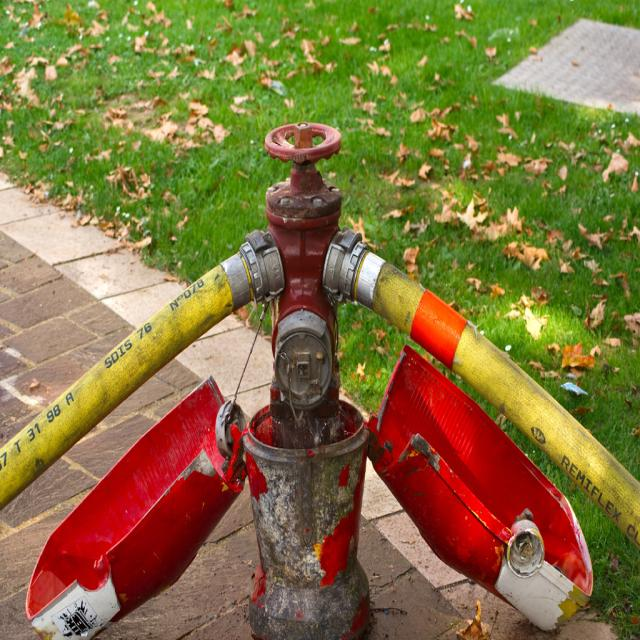fire_hydrant: (265, 118, 342, 446)
